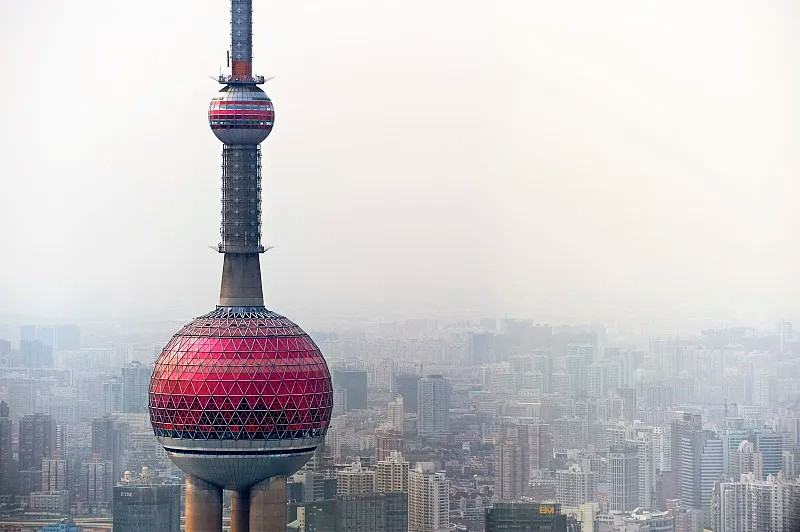Oriental: (148, 1, 333, 532)
